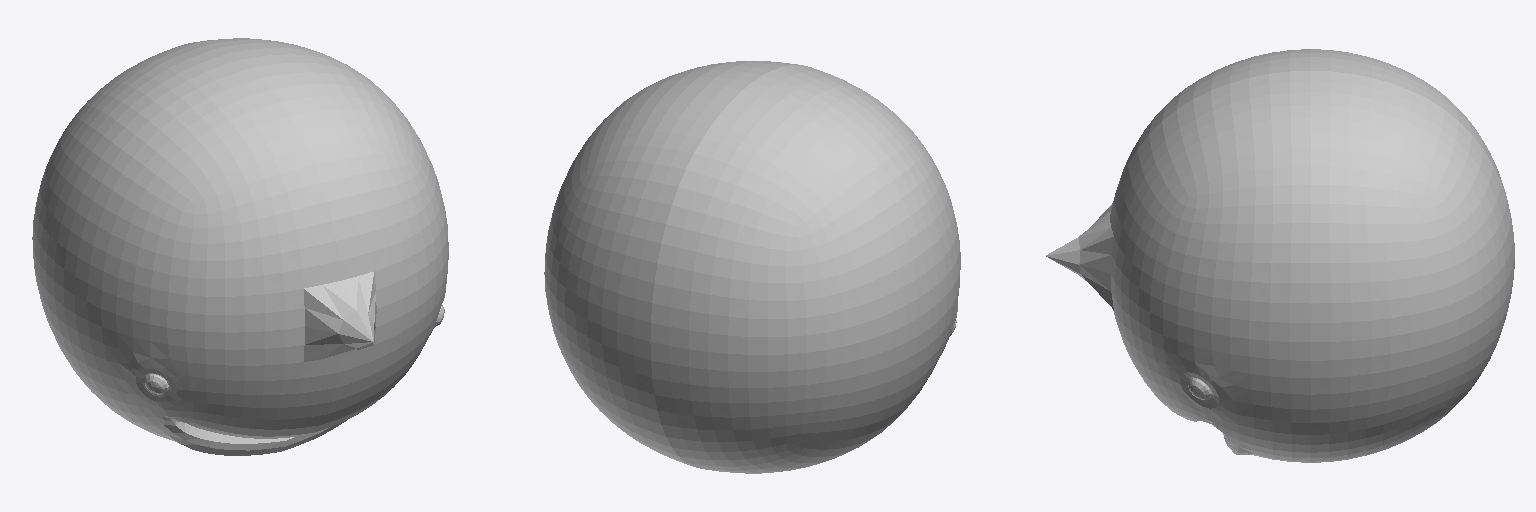
File: horn_test_001.obj
3 views of the same model, side by side, from view 1: azimuth 30°, elevation 25°; view 2: azimuth 150°, elevation 25°; view 3: azimuth 270°, elevation 25° (orthographic).
Parts seen in each view (by area): view 1: Cube; view 2: Cube; view 3: Cube.
Boxes of the visible parts, box(x1,y1,x2,y2) form: Cube: box(32, 38, 448, 455); Cube: box(544, 61, 960, 473); Cube: box(1046, 49, 1514, 462).
Size of the model in its own units: 600 by 600 by 690.